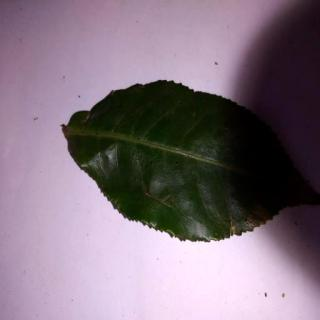Bird Eye Spot: (64, 81, 320, 242)
